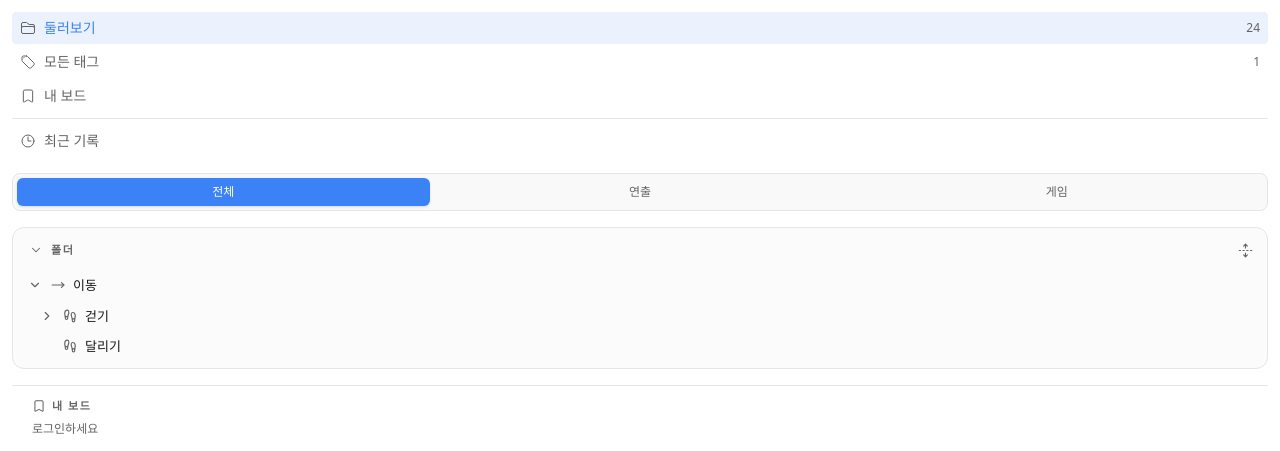
LeftPanelContent › toggles the folder tree when the folder label is clicked
The width and height of the screenshot is (1280, 451).
Check: the button named "폴더 전체 펼치기" is shown, box [1229, 234, 1261, 266]
Check: the text "이동" is shown, box [73, 276, 97, 294]
What coordinates should you click on to do the following:
click the button "폴더"
I would click on:
 (36, 250)
Its box is [19, 234, 1225, 266].
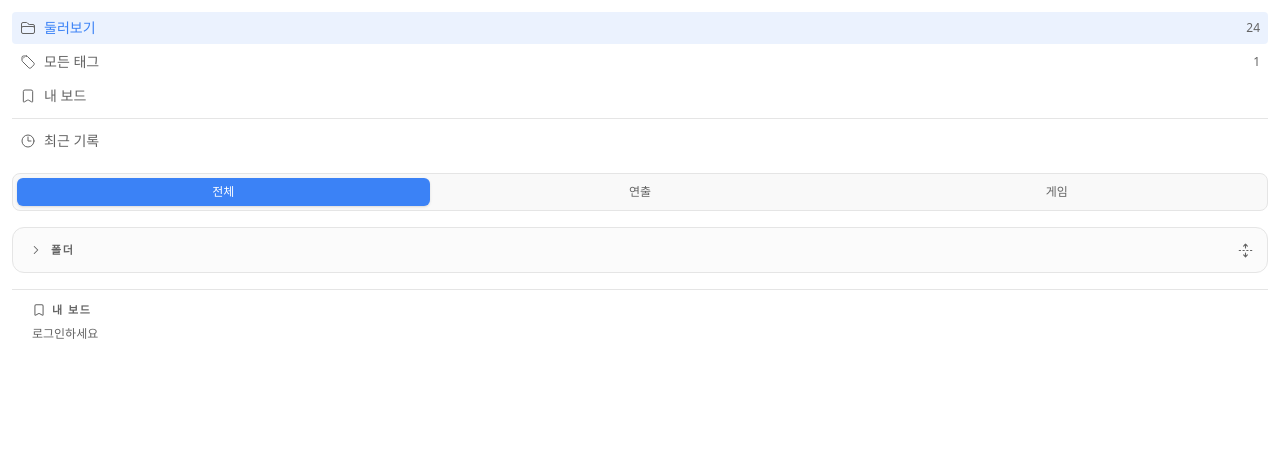
Check: the text "이동" is gone
What coordinates should you click on to do the following:
click the button "폴더"
I would click on:
 (36, 250)
Its box is [19, 234, 1225, 266].
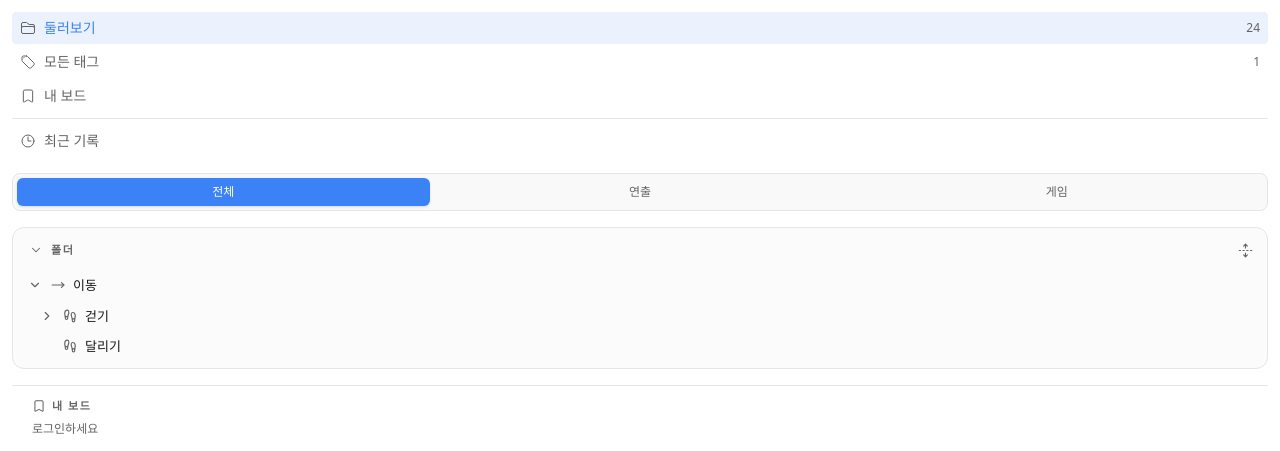
Check: the text "이동" is shown, box [73, 276, 97, 294]
